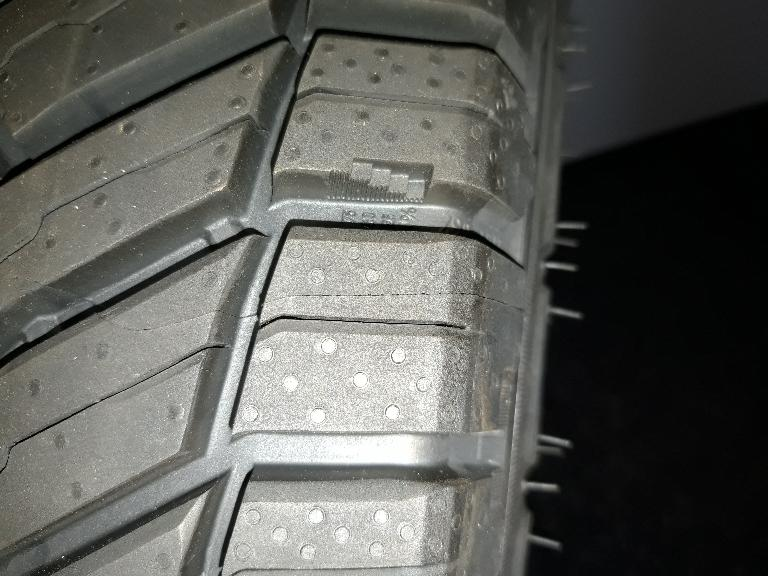temoin:100: (326, 155, 436, 208)
